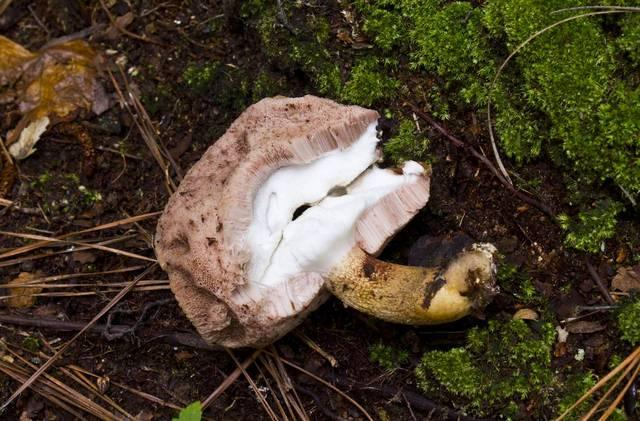Non-edible Mushroom: (152, 92, 500, 350)
